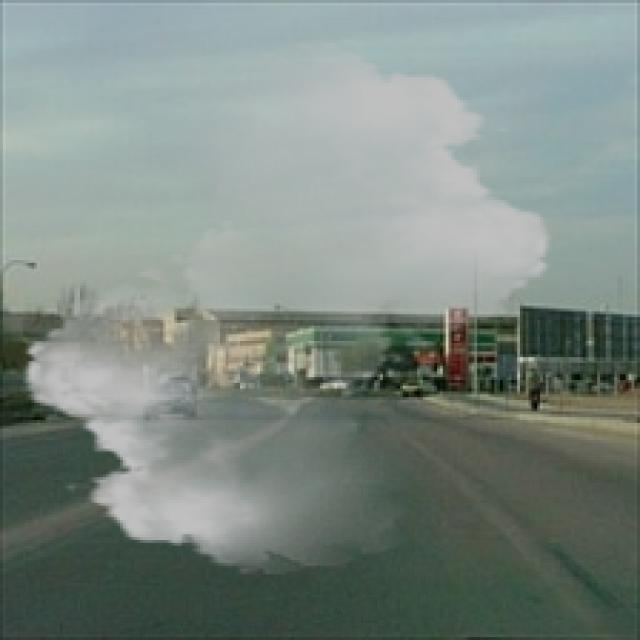smoke: (6, 43, 568, 574)
